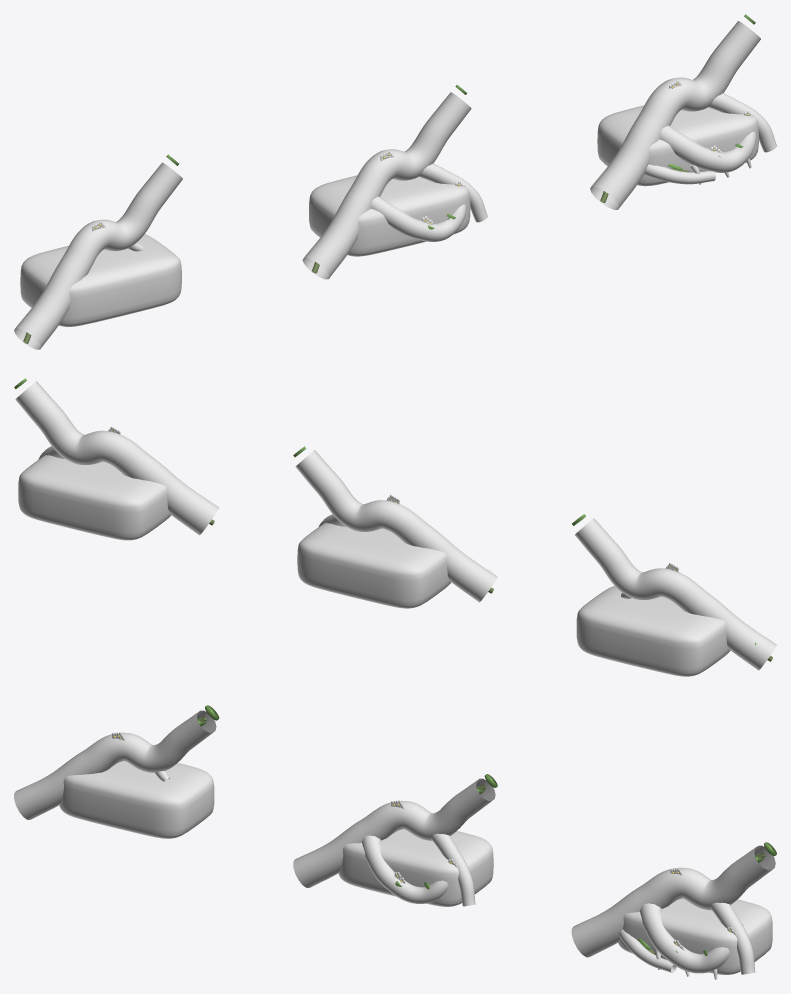
The model's file is root_props_comparison.fbx.
3 views of the same model, one above another, from view 1: azimuth 30°, elevation 25°; view 2: azimuth 150°, elevation 25°; view 3: azimuth 330°, elevation 25° (orthographic). The views are drawn at different scales.
Parts seen in each view (by area): view 1: Stone_Base_1_Real, Main_Root_3_Real, Main_Root_1_Real, Main_Root_2_Real, Stone_Base_2_Real, Stone_Base_3_Real, Tangled_Root_3A_Real, Tangled_Root_2A_Real, Tangled_Root_3B_Real, Tangled_Root_2B_Real, Tangled_Root_3C_Real; view 2: Stone_Base_1_Real, Stone_Base_2_Real, Stone_Base_3_Real, Main_Root_3_Real, Main_Root_2_Real, Main_Root_1_Real; view 3: Stone_Base_1_Real, Main_Root_3_Real, Stone_Base_2_Real, Main_Root_1_Real, Main_Root_2_Real, Stone_Base_3_Real, Tangled_Root_3A_Real, Tangled_Root_2A_Real, Tangled_Root_3B_Real, Tangled_Root_2B_Real, Tangled_Root_3C_Real.
Part boxes in pixels (box(x1,y1,x2,y2)): Stone_Base_1_Real: box(20, 234, 181, 326); Main_Root_3_Real: box(590, 21, 760, 209); Main_Root_1_Real: box(14, 162, 182, 349); Main_Root_2_Real: box(302, 92, 471, 279); Stone_Base_2_Real: box(309, 175, 470, 256); Stone_Base_3_Real: box(597, 105, 758, 186); Tangled_Root_3A_Real: box(660, 125, 756, 172); Tangled_Root_2A_Real: box(370, 196, 466, 241); Tangled_Root_3B_Real: box(708, 93, 776, 152); Tangled_Root_2B_Real: box(419, 163, 487, 222); Tangled_Root_3C_Real: box(644, 164, 715, 184); Stone_Base_1_Real: box(576, 586, 730, 676); Stone_Base_2_Real: box(297, 523, 451, 608); Stone_Base_3_Real: box(18, 455, 171, 540); Main_Root_3_Real: box(15, 381, 219, 535); Main_Root_2_Real: box(295, 450, 497, 602); Main_Root_1_Real: box(575, 518, 776, 670); Stone_Base_1_Real: box(59, 761, 214, 838); Main_Root_3_Real: box(571, 845, 775, 957); Stone_Base_2_Real: box(338, 829, 493, 906); Main_Root_1_Real: box(14, 710, 216, 819); Main_Root_2_Real: box(293, 778, 495, 887); Stone_Base_3_Real: box(618, 898, 772, 974); Tangled_Root_3A_Real: box(640, 903, 743, 973); Tangled_Root_2A_Real: box(362, 835, 463, 903); Tangled_Root_3B_Real: box(710, 902, 755, 974); Tangled_Root_2B_Real: box(431, 833, 475, 906); Tangled_Root_3C_Real: box(619, 929, 676, 972).
Bounding box in the file's own units: 1320 × 231 × 167.
